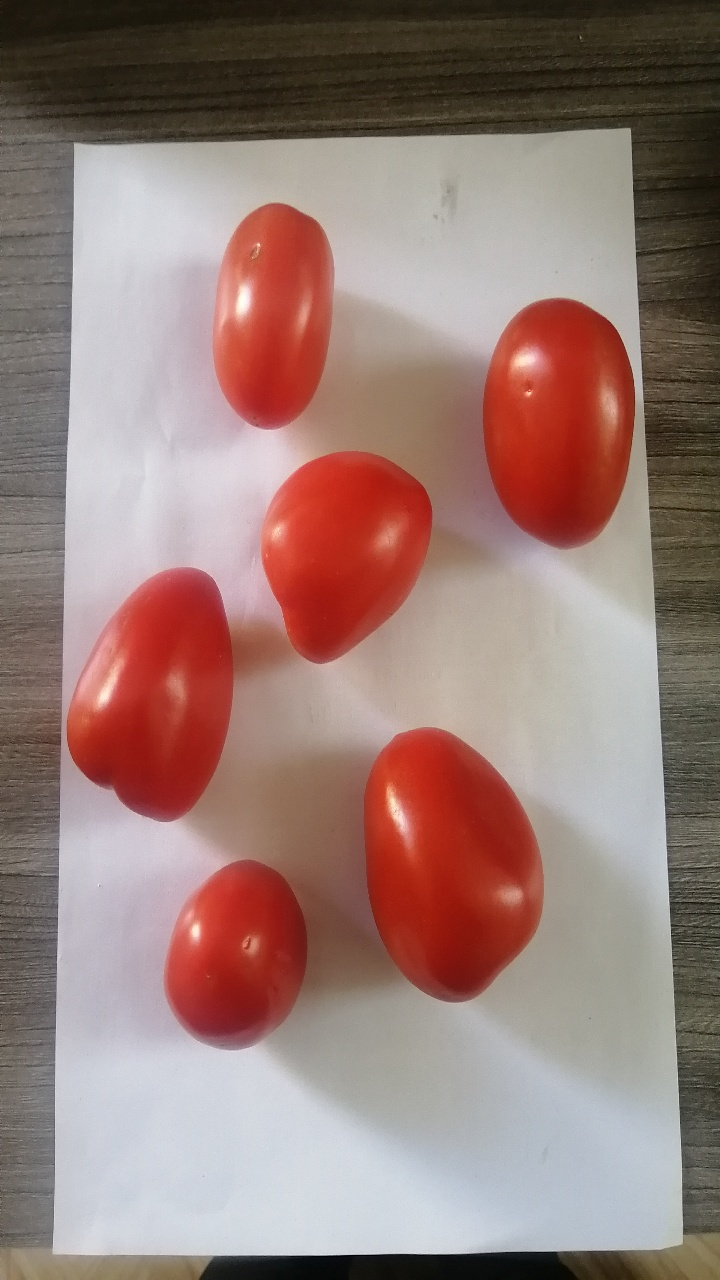tomateRojo: (343, 708, 563, 1009), (237, 428, 463, 671), (463, 275, 654, 555), (57, 557, 243, 812), (189, 188, 366, 440), (154, 855, 311, 1059)
